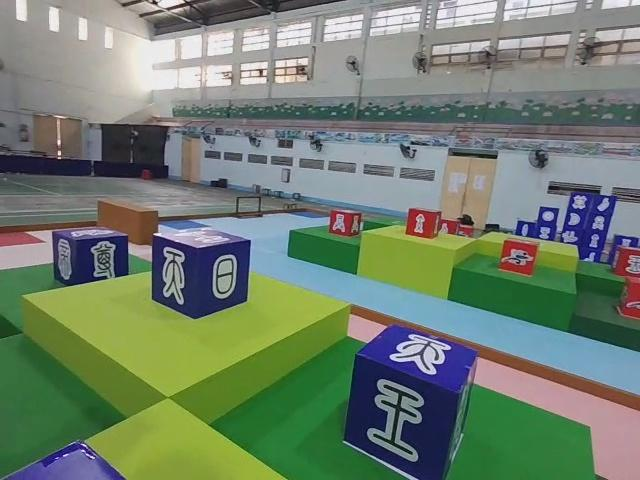R2 Fake Blue: (346, 326, 480, 480), (152, 229, 252, 321), (51, 228, 130, 289)
